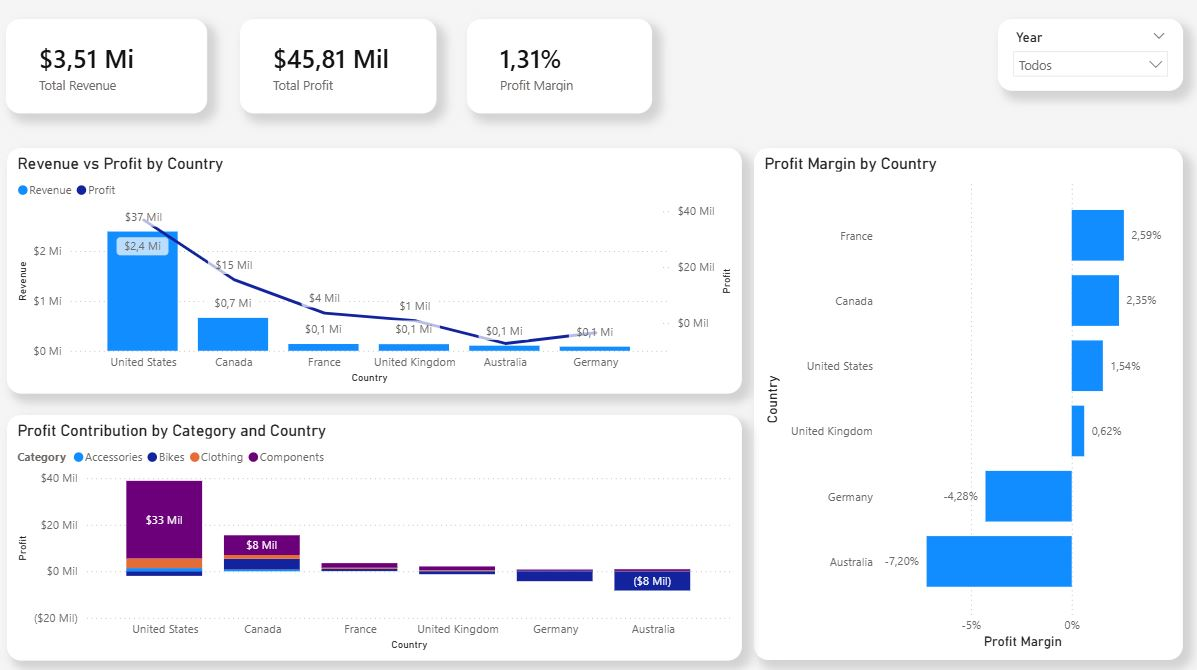

What the dashboard file says about the page in this screenshot:
{"tool":"powerbi","page":{"name":"Geographic Performance","canvas":[1280,720],"ordinal":3},"visuals":[{"type":"lineClusteredColumnComboChart","title":"Revenue vs Profit by Country","fields":{"Category":["Region.Country"],"Y":["Key Measures.Revenue"],"Y2":["Key Measures.Profit"]},"box":[13.6,163.4,778.1,259.7],"z":0},{"type":"clusteredBarChart","title":"Profit Margin by Country","fields":{"Category":["Region.Country"],"Y":["Key Measures.Profit Margin"]},"box":[804.4,163.4,454.2,541.8],"z":1000},{"type":"columnChart","title":"Profit Contribution by Category and Country","fields":{"Category":["Region.Country"],"Y":["Key Measures.Profit"],"Series":["Products.Category"]},"box":[13.6,445.5,778.1,259.7],"z":2000},{"type":"cardVisual","fields":{"Data":["Key Measures.Revenue"]},"box":[12.6,26.3,213,100.2],"z":3000},{"type":"cardVisual","fields":{"Data":["Key Measures.Profit"]},"box":[260.7,26.3,208.1,100.2],"z":4000},{"type":"cardVisual","fields":{"Data":["Key Measures.Profit Margin"]},"box":[500.9,26.3,196.5,100.2],"z":5000},{"type":"slicer","fields":{"Values":["Sales.OrderDate.Variation.Date Hierarchy.Year"]},"box":[1063.1,26.3,195.5,75.9],"z":6000}]}

Visuals, with their boxes in screenshot pixels (x1, y1, x2, y2), scaled from the page's 1280x720 canvas onto the 1197x670 screenshot:
"Revenue vs Profit by Country" lineClusteredColumnComboChart: <bbox>13, 152, 740, 394</bbox>
"Profit Margin by Country" clusteredBarChart: <bbox>752, 152, 1177, 656</bbox>
"Profit Contribution by Category and Country" columnChart: <bbox>13, 415, 740, 656</bbox>
cardVisual - Key Measures.Revenue: <bbox>12, 24, 211, 118</bbox>
cardVisual - Key Measures.Profit: <bbox>244, 24, 438, 118</bbox>
cardVisual - Key Measures.Profit Margin: <bbox>468, 24, 652, 118</bbox>
slicer - Sales.OrderDate.Variation.Date Hierarchy.Year: <bbox>994, 24, 1177, 95</bbox>
